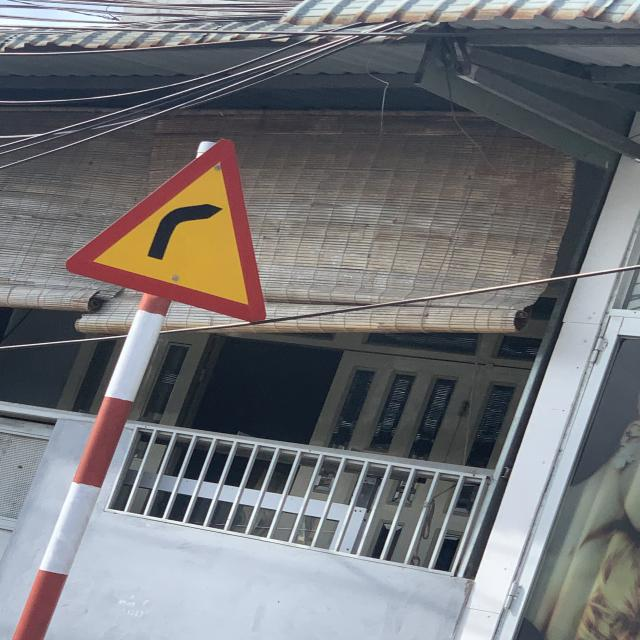Duong_Nguoi_Di_Bo_Cat_Ngang: (67, 138, 267, 324)
